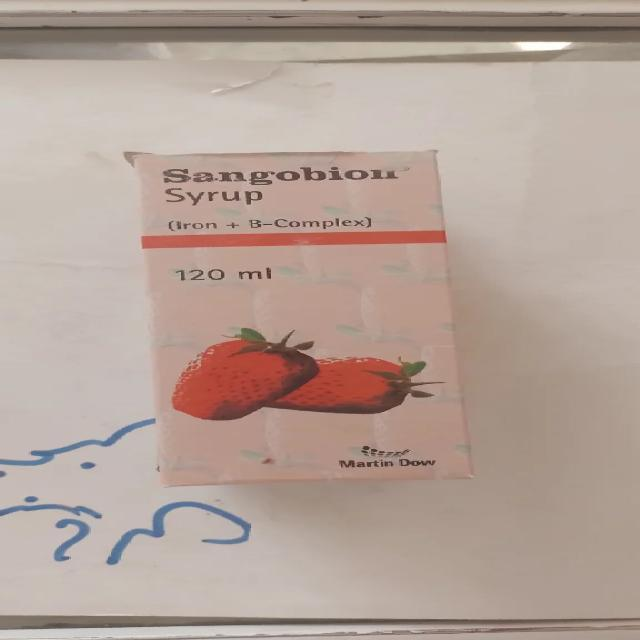drug-name: (162, 165, 398, 186)
